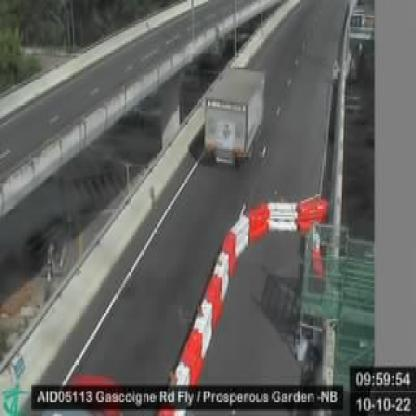Truck: (198, 68, 266, 168)
